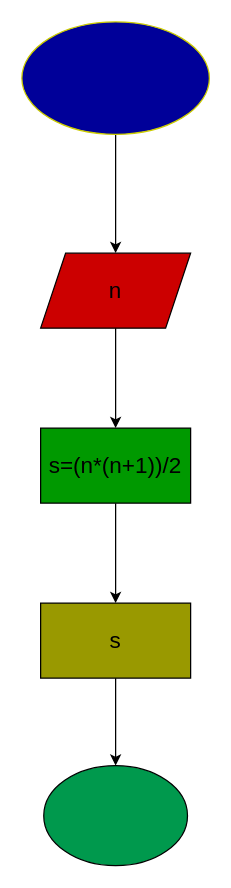
The diagram is 231 pixels wide and 888 high, and some of its shapes have lost their labels. Each missing label, with the centre of its shape:
FIN: (x=115, y=815)
INICIO: (x=115, y=77)
